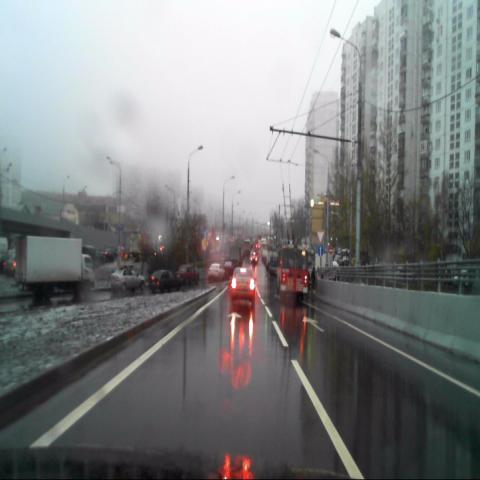2_4: (316, 229, 324, 244)
4_1_1: (317, 245, 324, 257)
